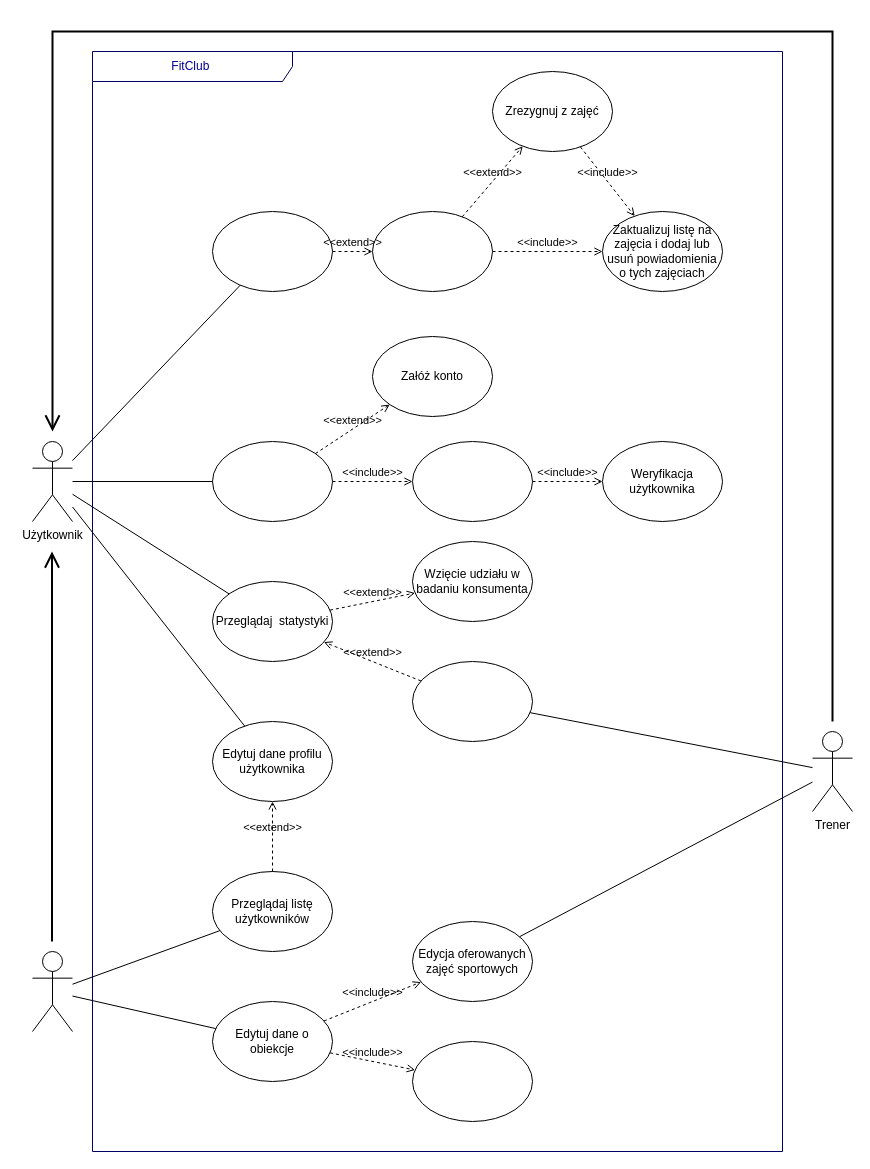
Some shapes in this 870 by 1169 pixel diagram are drawn without their labels. Here are the shapes that lost their labels. From the top down, the centre of each, then its label:
At [272,251]: "Przeglądaj dostępne zajęcia".
At [432,251]: "Zapisz się na zajęcia".
At [272,481]: "Zaloguj się".
At [472,481]: "Podaj login i hasło".
At [472,701]: "Dodaj komentarz, uwagi".
At [52,991]: "Administrator".
At [472,1081]: "Zmiana podstawowych informacji".
